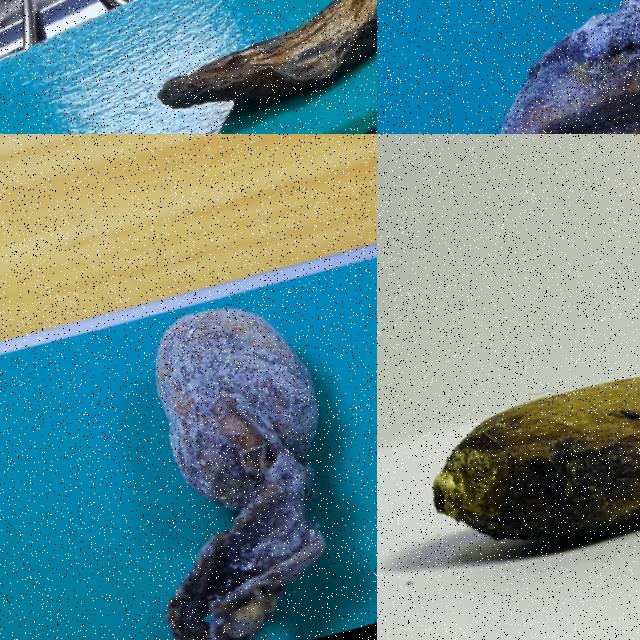Agglomerated_cocoabeans: (0, 229, 376, 639), (377, 0, 639, 133)
Fine_cocoabeans: (392, 315, 639, 592)
Flat_cocoabeans: (110, 0, 376, 133)
